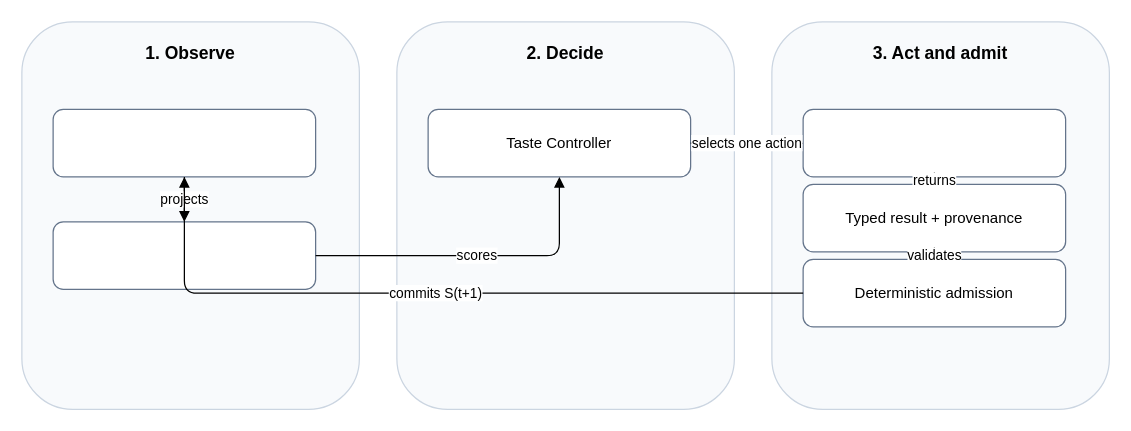
The diagram is 1131 pixels wide and 431 high, and some of its shapes have lost their labels. The shapes that lost their labels are listed below. From the top down, each one's centre as x and y in pixels, then its label:
At [184,142]: "ResearchState + evidence".
At [934,142]: "Executor / model proposal".
At [184,255]: "Closed candidate actions".
